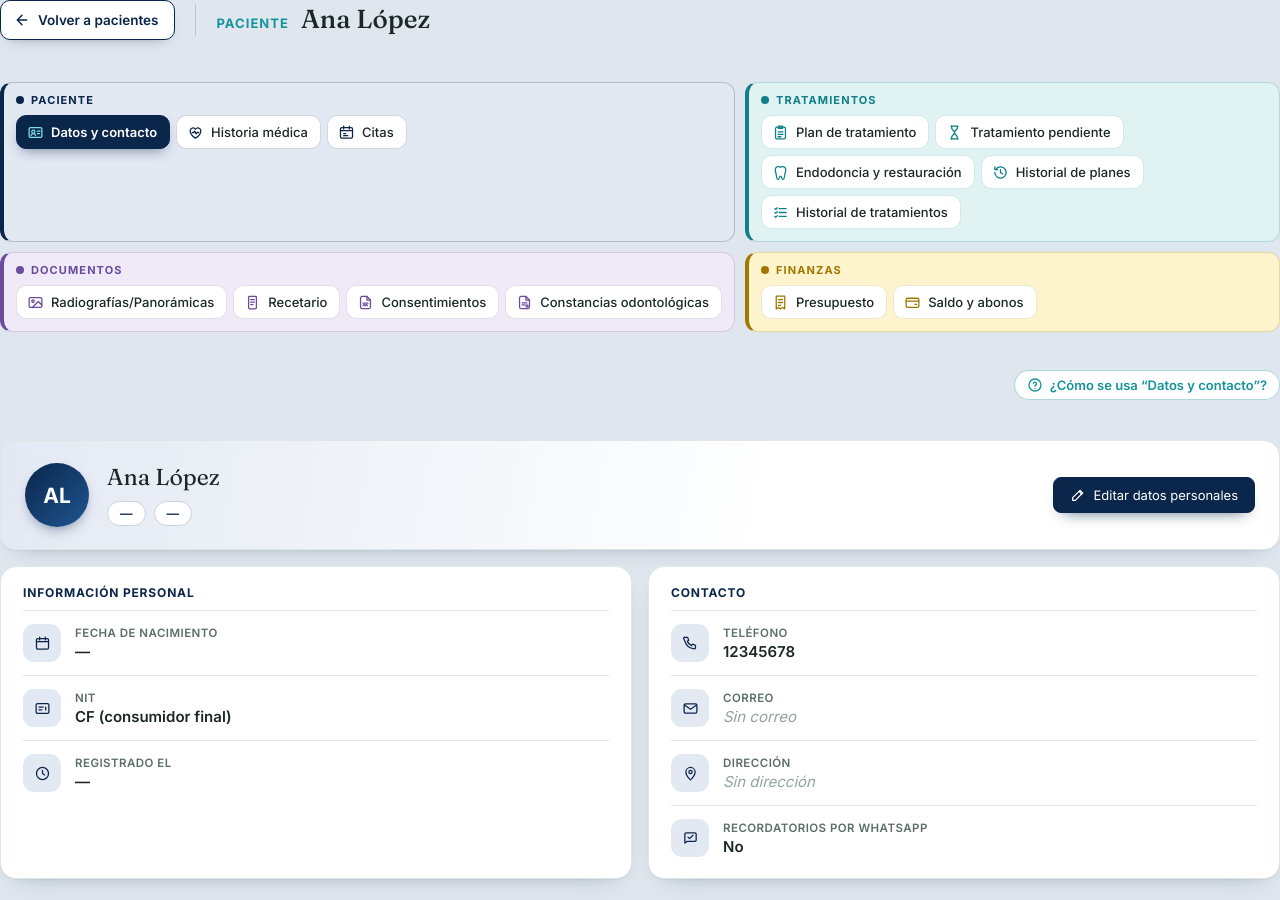
Scenario: PacienteDetail - ayuda de cada pestaña (SCRUM-200) › SCRUM-202: el botón inicia la guía de la pestaña activa, empezando por la pestaña
What coordinates should you click on to do the following:
click the button "¿Cómo se usa “Datos y contacto”?"
I would click on:
 (1147, 385)
Its box is [1014,370,1279,400].
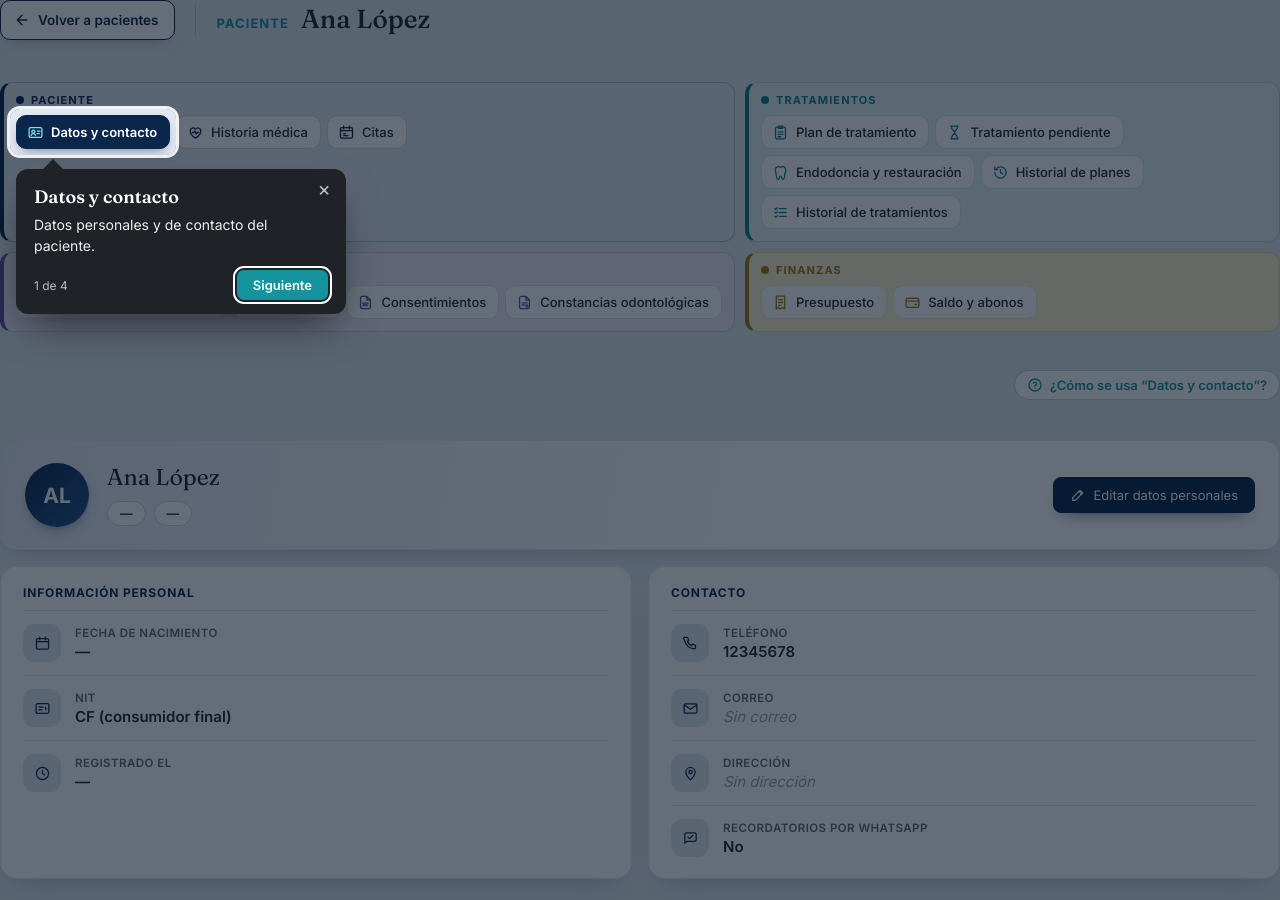
Expected: the dialog shows "Datos y contacto", [34,185,179,208]
Expected: the dialog shows "Datos personales y de contacto del paciente.", [34,216,268,254]
What coordinates should you click on to do the following:
click the button "Siguiente"
I would click on:
 (282, 285)
Its box is [237,270,328,300].
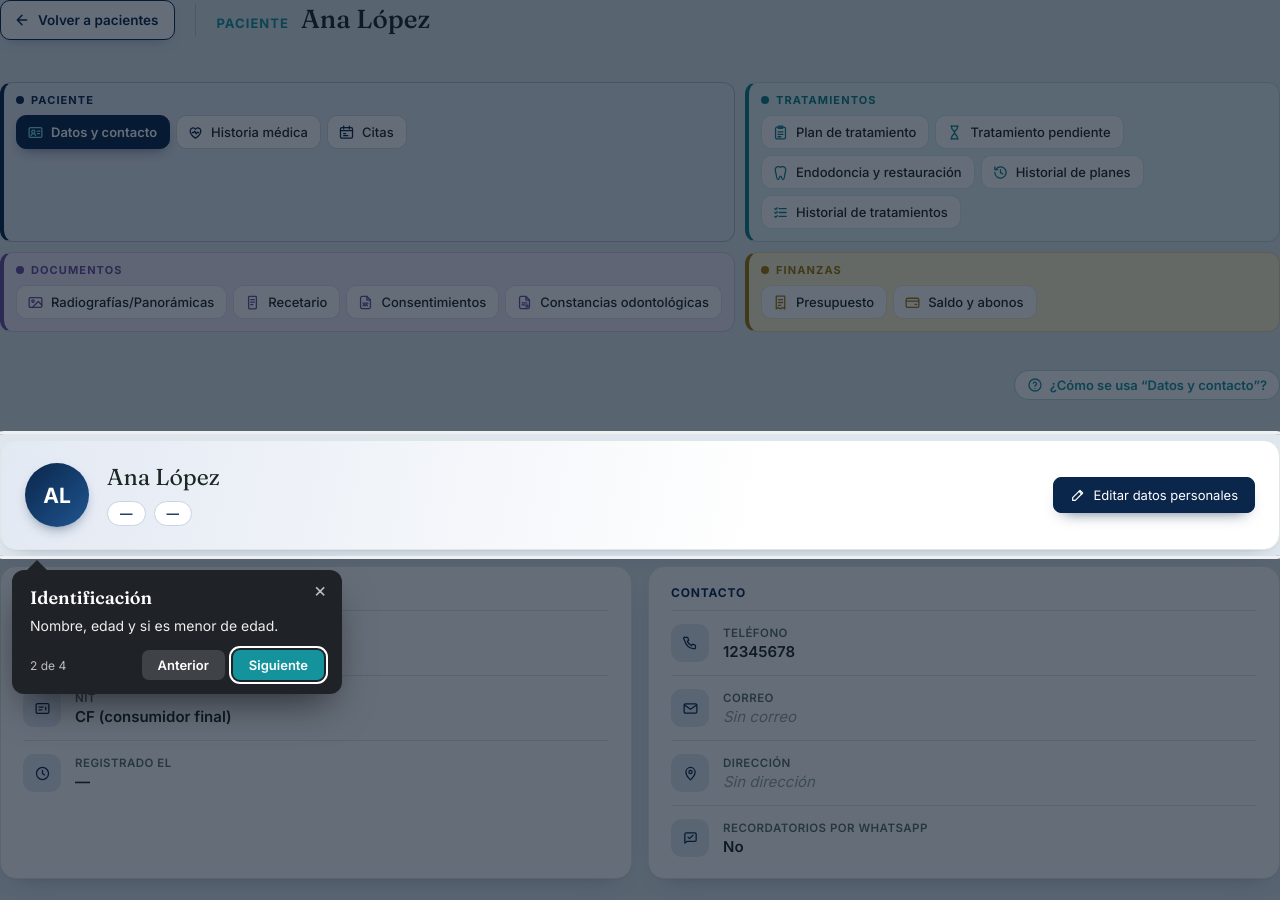
Expected: the dialog shows "Identificación", [30,586,152,609]
